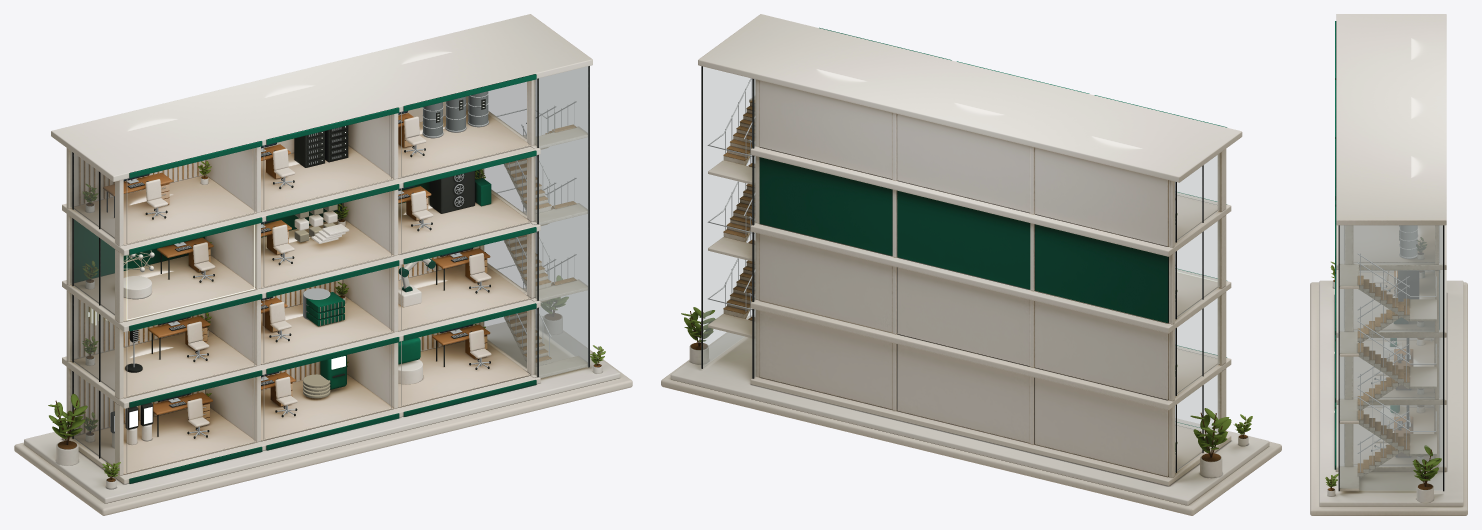
File: studio.glb
3 views of the same model, side by side, from view 1: azimuth 30°, elevation 25°; view 2: azimuth 150°, elevation 25°; view 3: azimuth 270°, elevation 25° (orthographic). The views are drawn at different scales.
Visible parts, largest first — view 1: Baked architectural floor 3, Baked architectural floor 0, Baked architectural floor 2, Baked architectural floor 1, ('Clear architectural glass', -1, ''), ('Brushed aluminium', -1, ''); view 2: Baked architectural floor 3, Baked architectural floor 0, Baked architectural floor 2, Baked architectural floor 1, ('Clear architectural glass', -1, ''), ('Brushed aluminium', -1, ''); view 3: Baked architectural floor 3, ('Clear architectural glass', -1, ''), Baked architectural floor 0, Baked architectural floor 2, Baked architectural floor 1, ('Brushed aluminium', -1, ''), ('Satin storage steel', 2, 'Redis').
Boxes of the visible parts, <box> form: Baked architectural floor 3: <box>51,14,592,255</box>; Baked architectural floor 0: <box>14,275,632,515</box>; Baked architectural floor 2: <box>62,66,589,377</box>; Baked architectural floor 1: <box>62,211,587,408</box>; ('Clear architectural glass', -1, ''): <box>70,66,589,465</box>; ('Brushed aluminium', -1, ''): <box>496,101,576,356</box>; Baked architectural floor 3: <box>698,14,1242,256</box>; Baked architectural floor 0: <box>661,289,1281,515</box>; Baked architectural floor 2: <box>701,66,1231,378</box>; Baked architectural floor 1: <box>708,212,1231,410</box>; ('Clear architectural glass', -1, ''): <box>701,67,1219,472</box>; ('Brushed aluminium', -1, ''): <box>707,78,755,317</box>; Baked architectural floor 3: <box>1335,14,1446,321</box>; ('Clear architectural glass', -1, ''): <box>1338,225,1444,490</box>; Baked architectural floor 0: <box>1310,261,1467,515</box>; Baked architectural floor 2: <box>1335,225,1446,491</box>; Baked architectural floor 1: <box>1335,335,1446,456</box>; ('Brushed aluminium', -1, ''): <box>1357,253,1436,471</box>; ('Satin storage steel', 2, 'Redis'): <box>1400,225,1417,256</box>.
Size of the model in its own units: 17.81 by 10.38 by 5.2.
15 materials, 4 textured.
